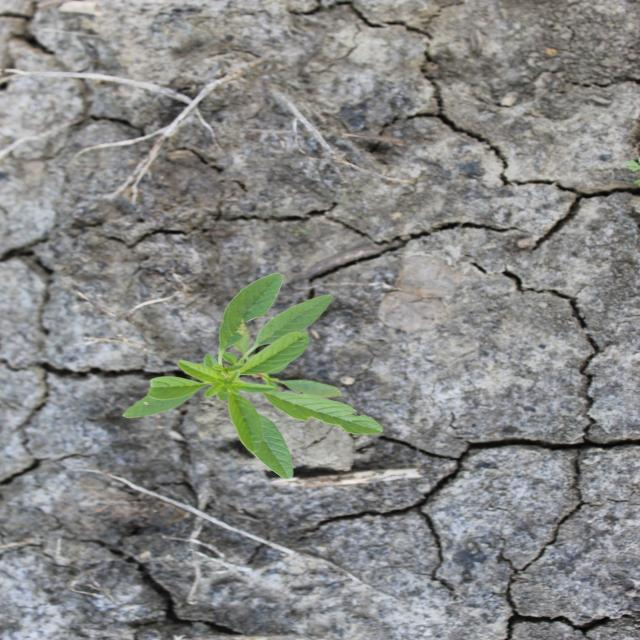Waterhemp: (118, 272, 386, 480)
